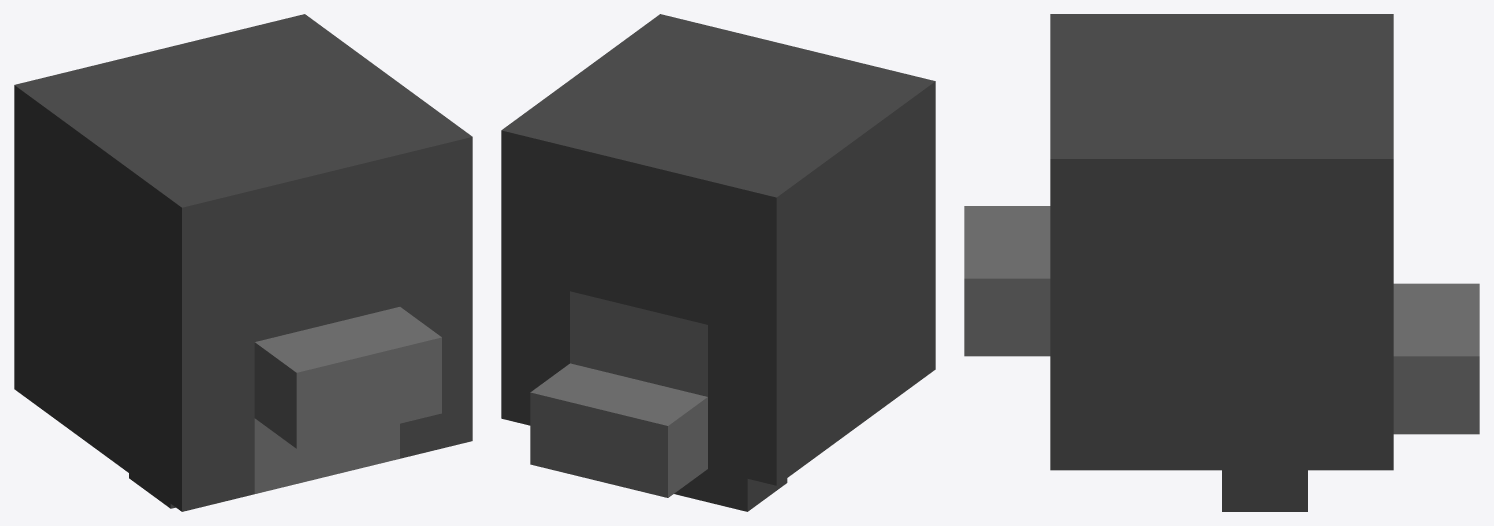
The model's file is bird2_2.obj.
3 views of the same model, side by side, from view 1: azimuth 30°, elevation 25°; view 2: azimuth 150°, elevation 25°; view 3: azimuth 270°, elevation 25° (orthographic). The views are drawn at different scales.
Bounding box in the file's own units: 0.4 × 0.5 × 0.6.
1 material, 1 textured.
